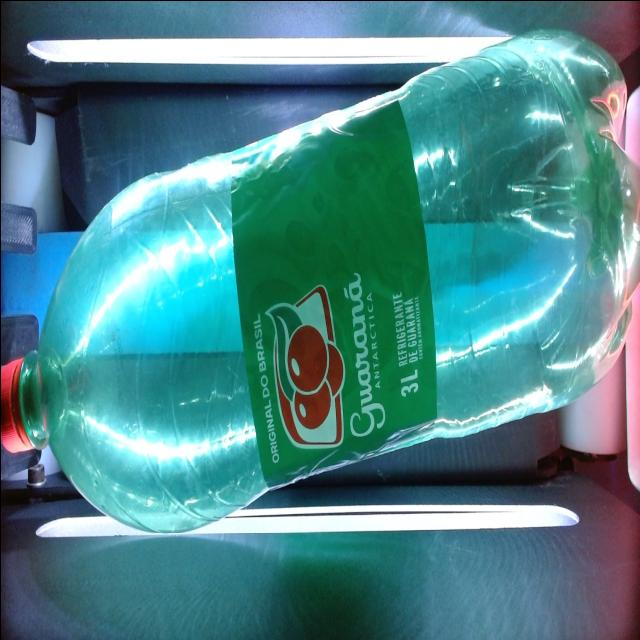bottle: (0, 32, 640, 531)
